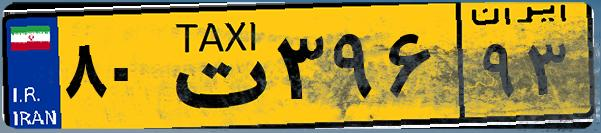0: (110, 28, 158, 98)
3: (270, 28, 330, 110), (525, 38, 570, 115)
6: (385, 28, 445, 110)
8: (57, 26, 110, 100)
9: (330, 28, 385, 110), (475, 38, 525, 113)
ت: (158, 12, 270, 120)
